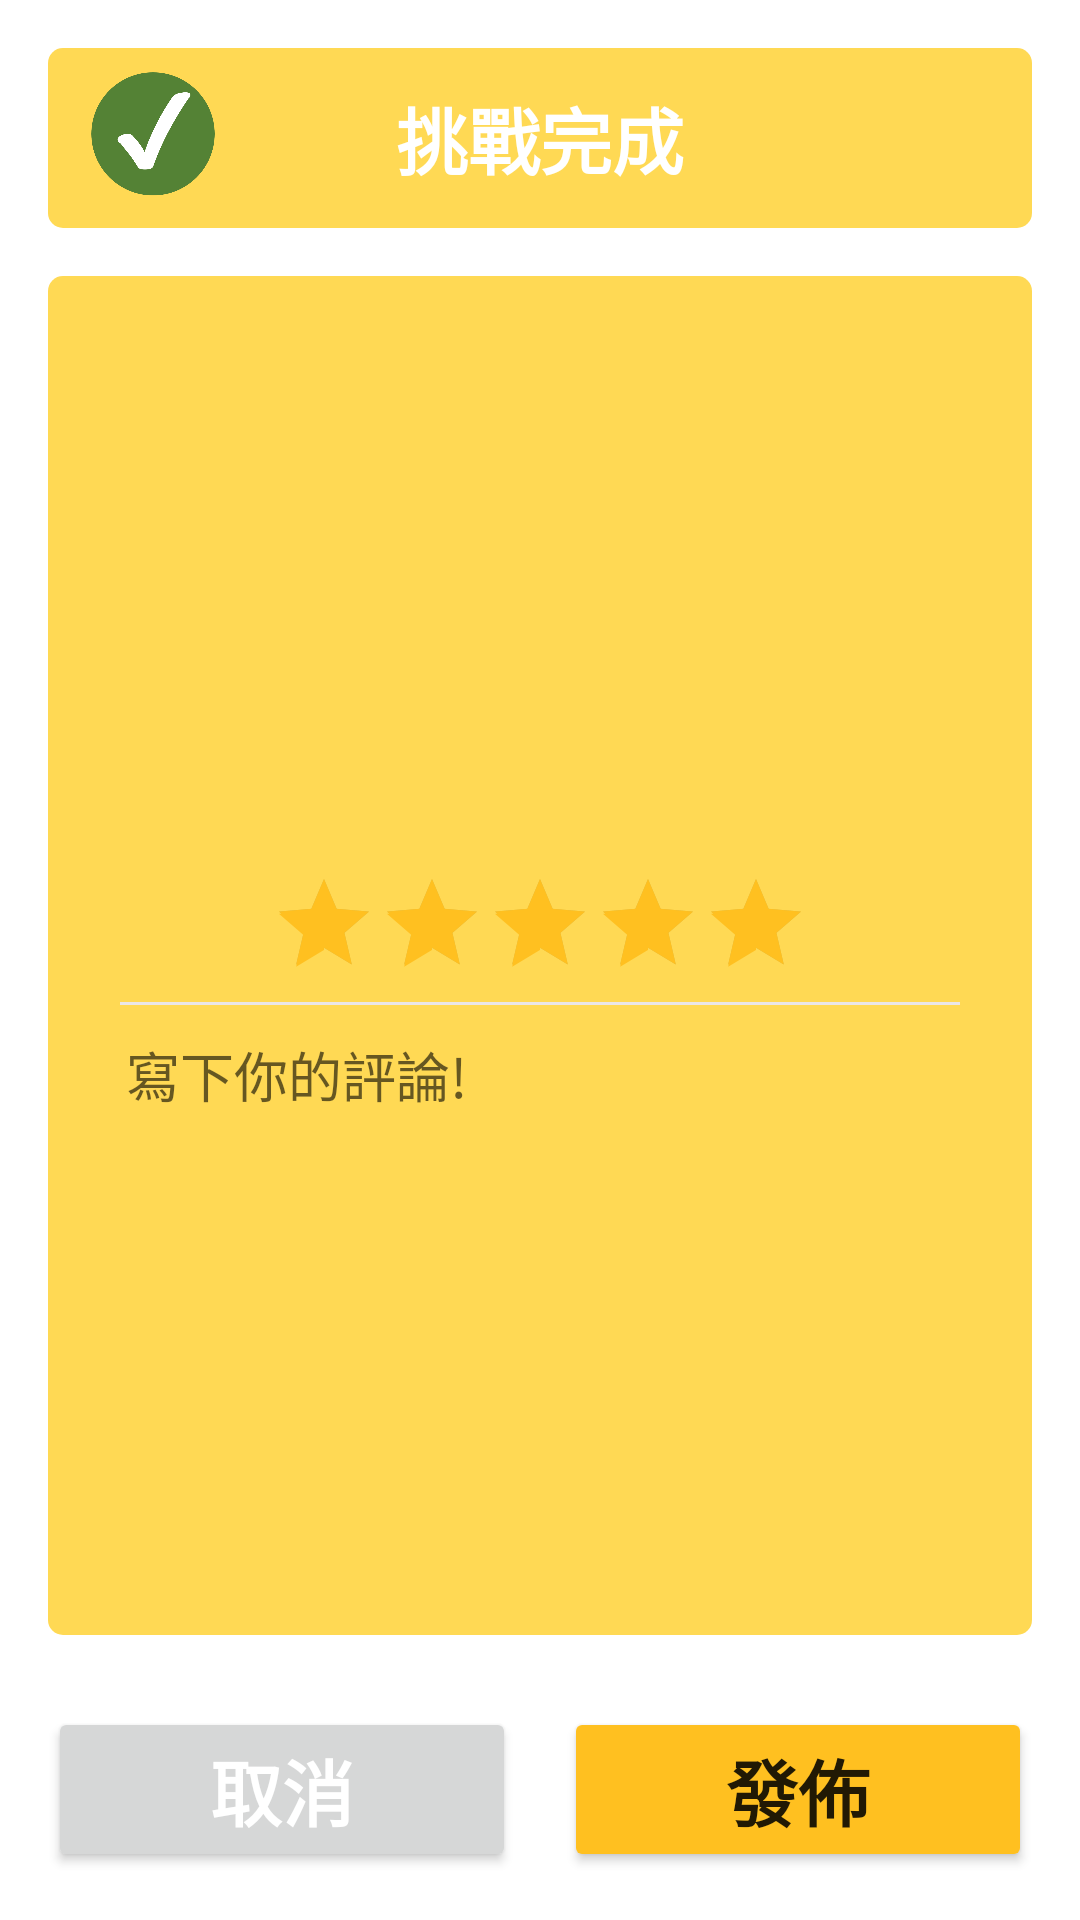

Named icons in this screenshot (1080x1920) and their centers, (x=x, y=y):
success: (x=153, y=138)
